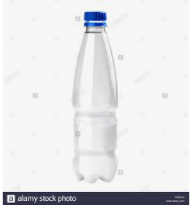Bottle: (72, 13, 118, 180)
